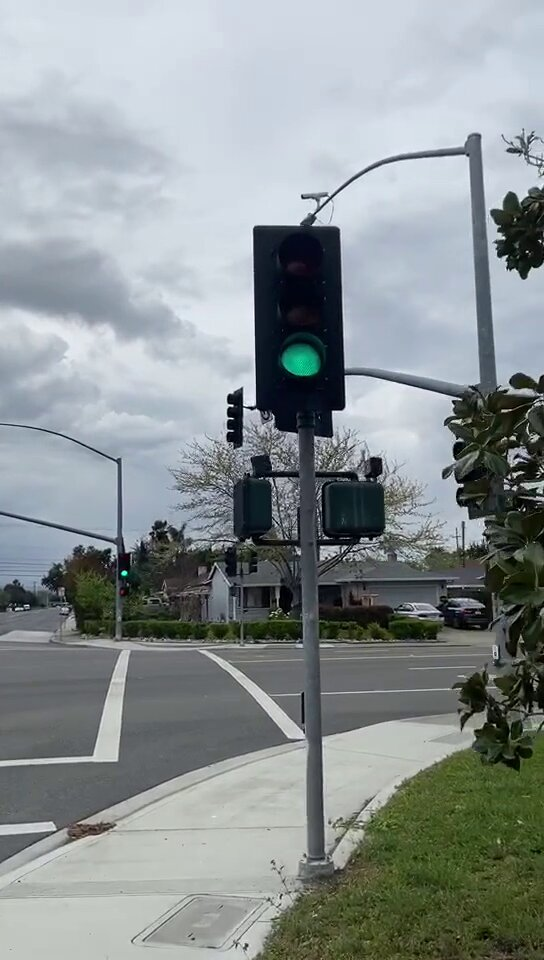green_light: (257, 226, 344, 409), (119, 551, 131, 578)
